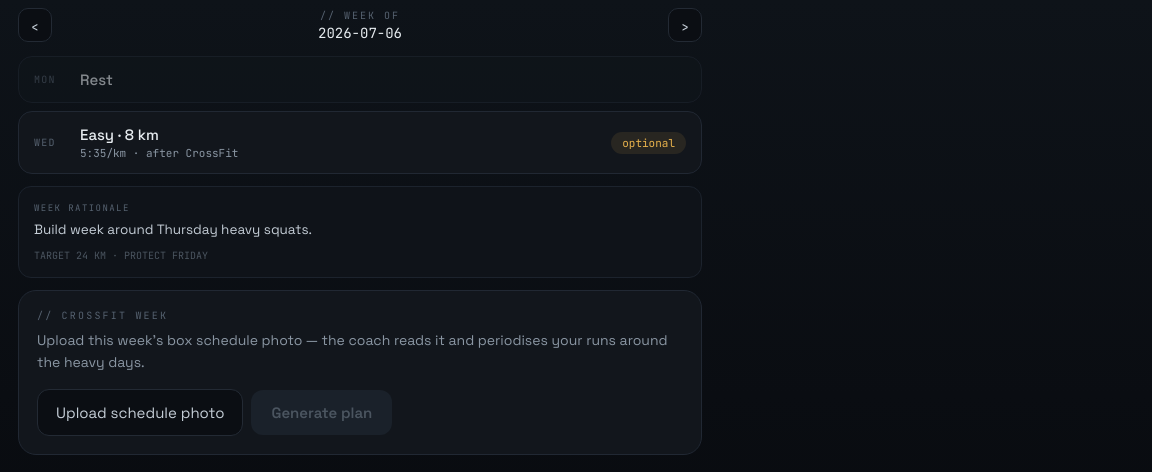
Test case: PlanPage › week nav shifts the week label
The width and height of the screenshot is (1152, 472).
Expected: the text "2026-07-06" is shown, [318,24,402,42]
Click the button named "Previous week". click: (35, 25)
box: [18,8,52,42]
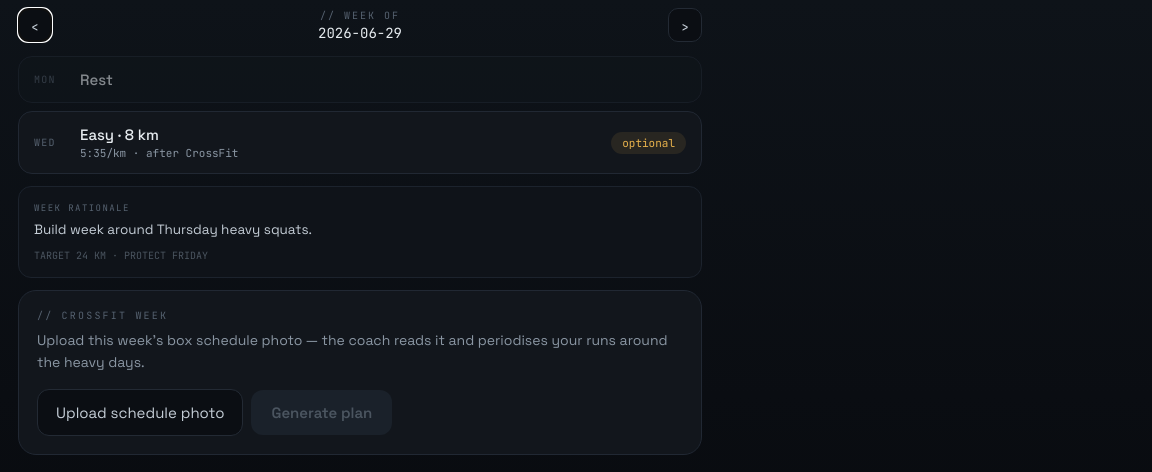
Now the text "2026-06-29" is shown, box [318,24,402,42]
